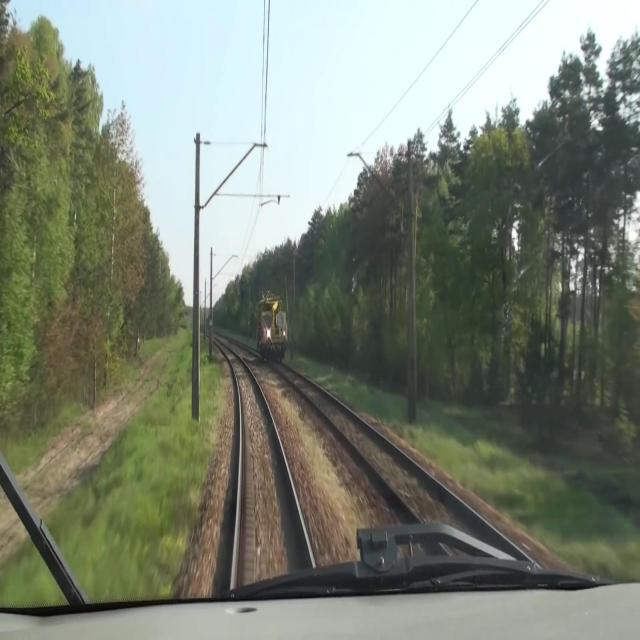rail-track: (276, 363, 512, 551), (224, 347, 311, 588)
